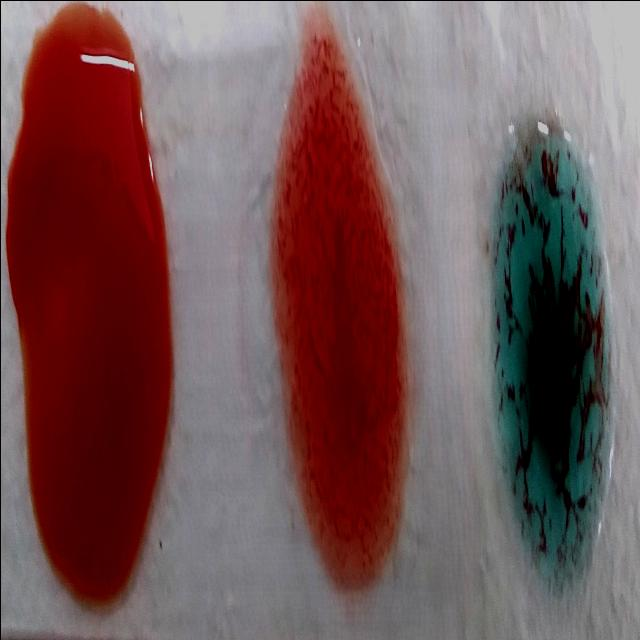A: (484, 118, 610, 592)
D: (268, 36, 407, 590)
